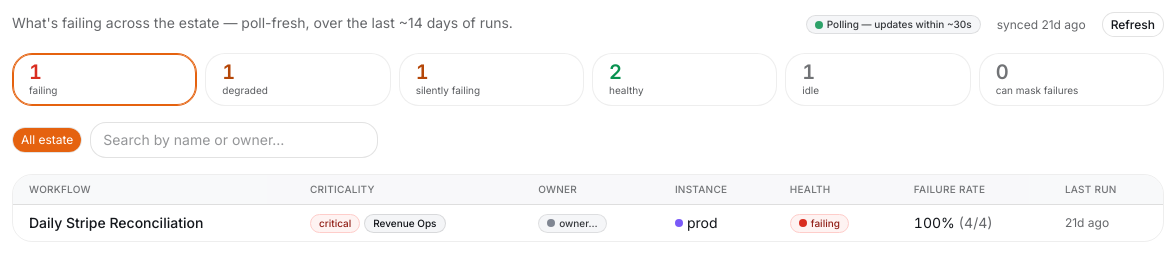
Test: Health view — UI-presence (rule 11) › S6.3 — a silently-failing tile filters to the silently-failing list (green-but-broken)
This screenshot has width=1176, height=259.
Click the button with test id "health-tile-silent" at {"x": 491, "y": 80}, box [399,53,584,106]
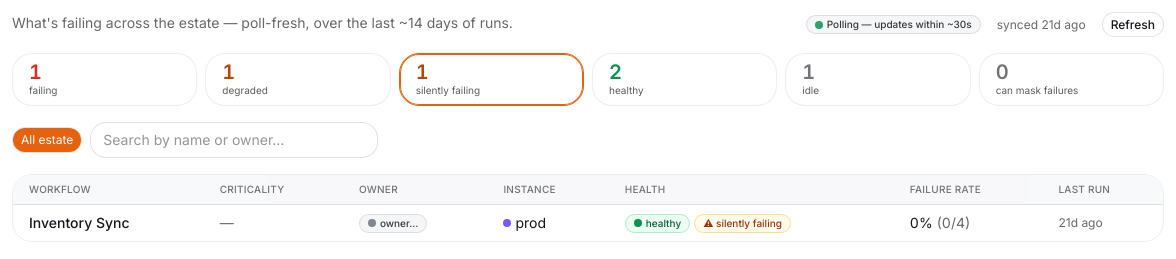
Expected: the element with test id "health-silent-list" is shown, [12,174,1164,242]
Expected: the element with test id "health-silent-list" shows "Inventory Sync", [29,214,130,231]
